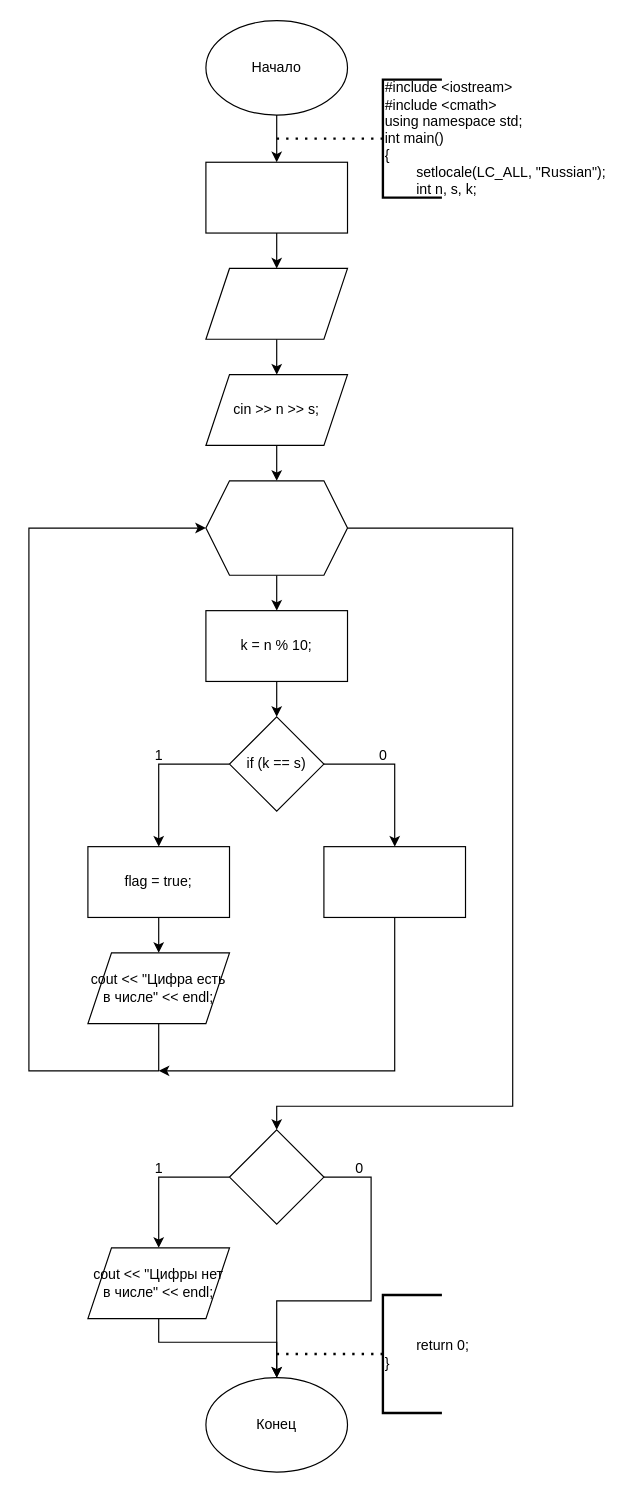
Image size: 627x1493. Some labels were removed from this diagram. Each missing label, with the box of its shape:
bool flag = false;: (205, 161, 348, 233)
cout << "Введите число и цифру: \n";: (205, 267, 348, 339)
if (!flag): (228, 1129, 324, 1224)
n /= 10;: (323, 845, 466, 917)
while (n > 0 && !flag): (205, 480, 348, 575)
